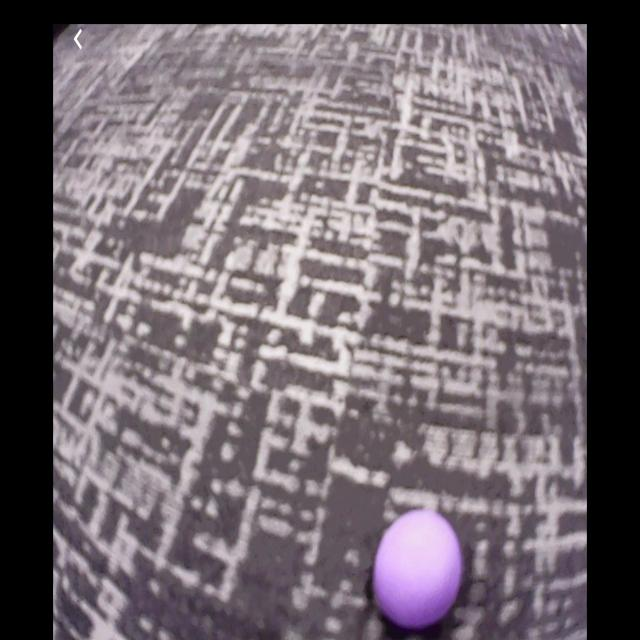ball: (374, 510, 463, 623)
